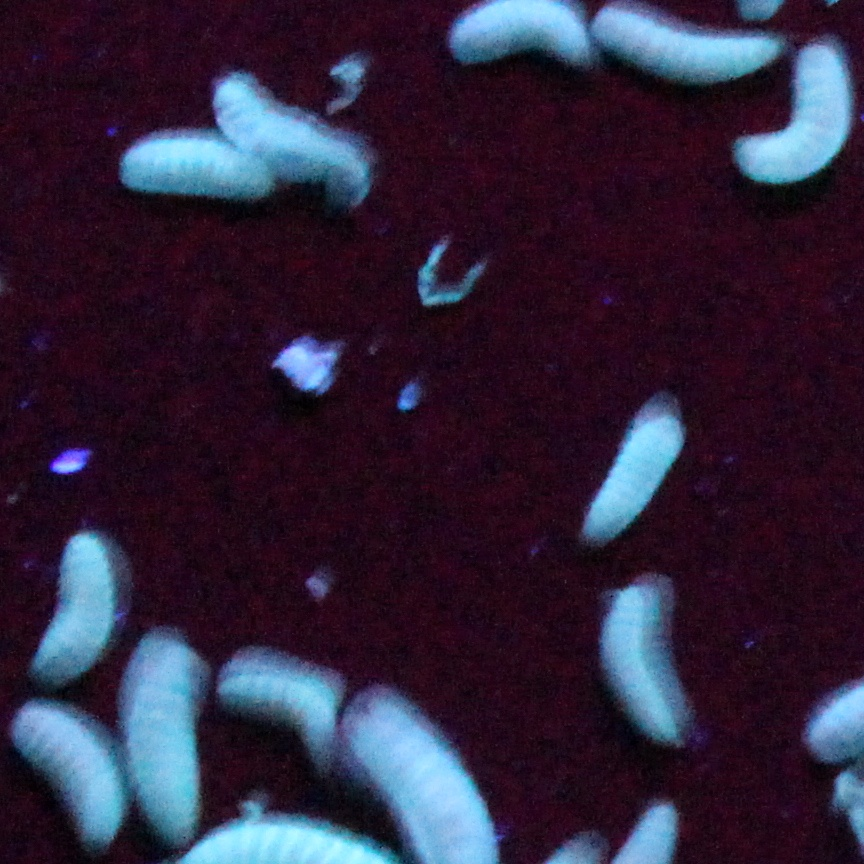larve: (739, 47, 851, 187), (11, 703, 122, 843), (126, 644, 201, 846), (213, 82, 365, 180), (592, 9, 780, 82), (585, 417, 684, 545), (31, 533, 115, 680), (603, 586, 675, 744), (122, 133, 272, 198), (219, 673, 331, 756)
